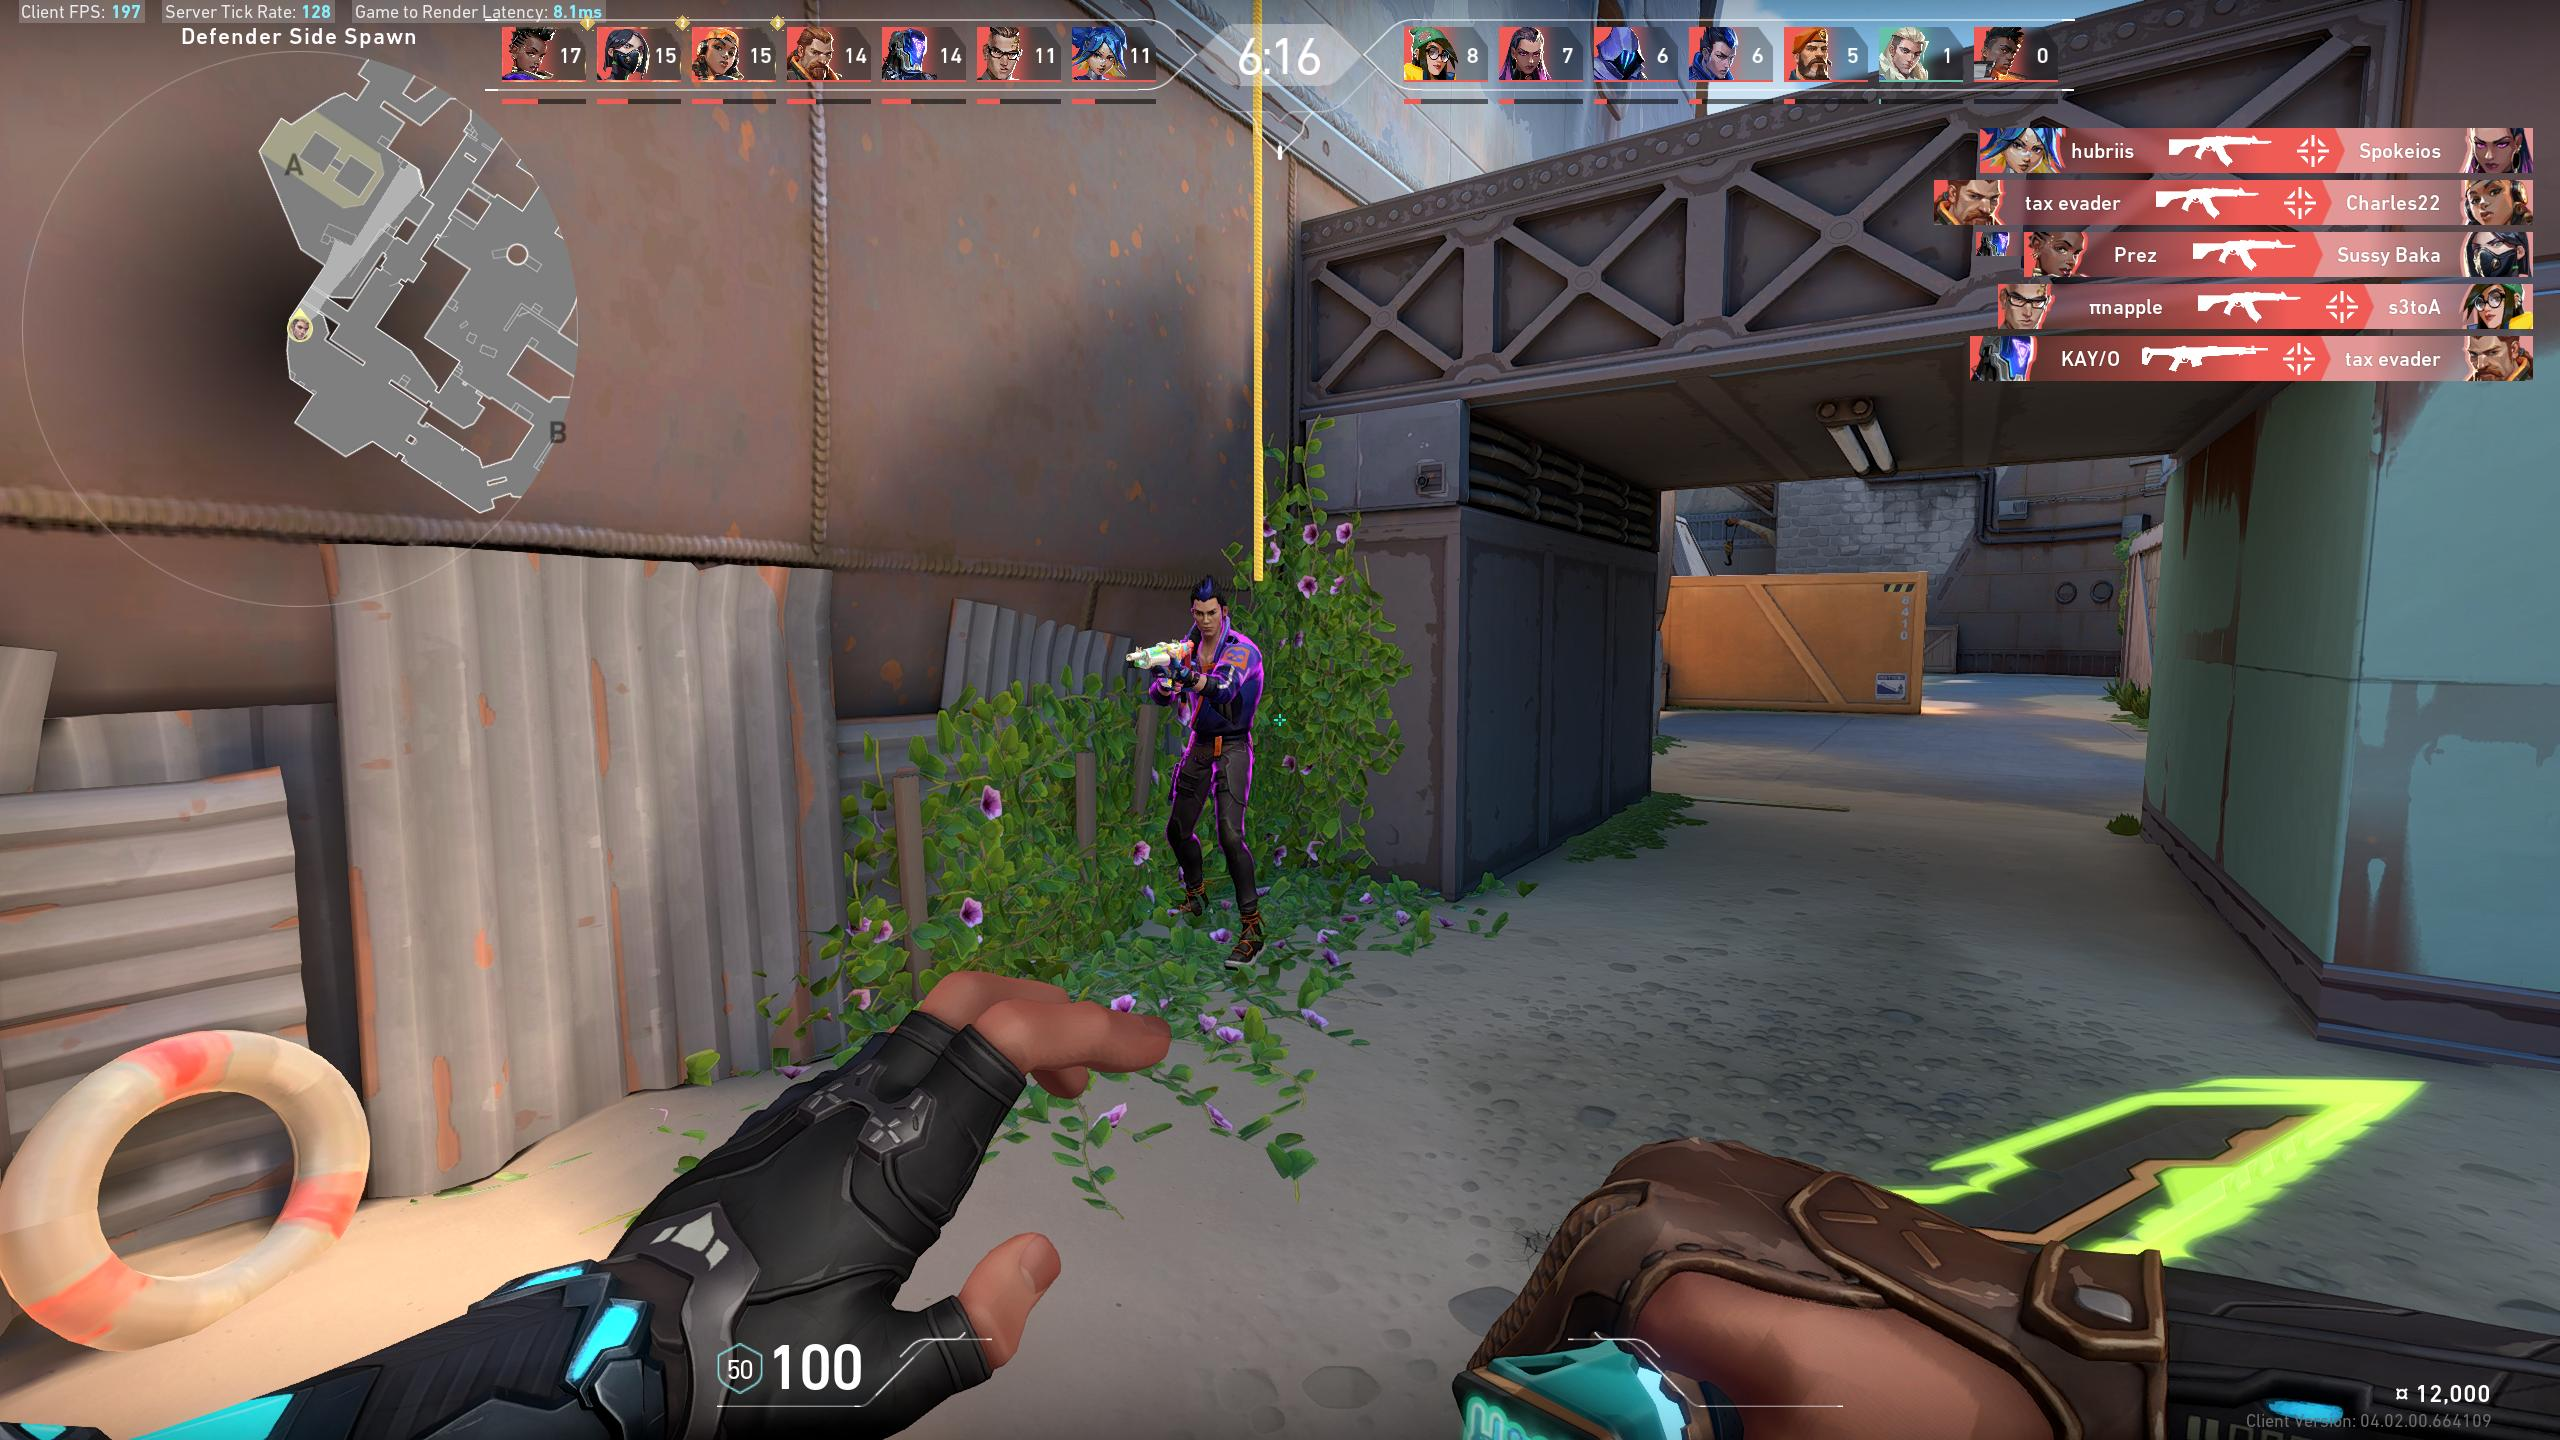enemyBody: (1189, 644, 1245, 745)
enemyHead: (1197, 600, 1220, 631)
